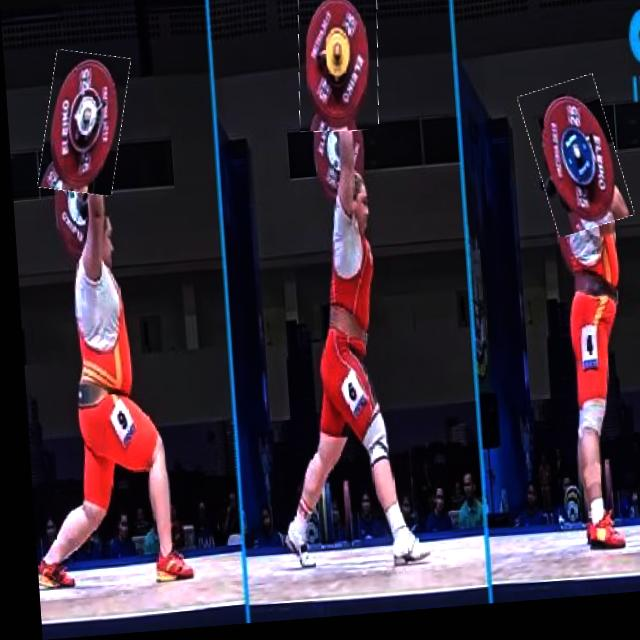barbell: (524, 87, 625, 246), (36, 51, 131, 200), (294, 1, 383, 141)
